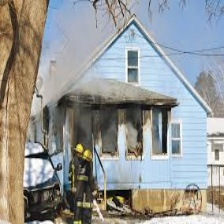smoke: (53, 34, 99, 134)
